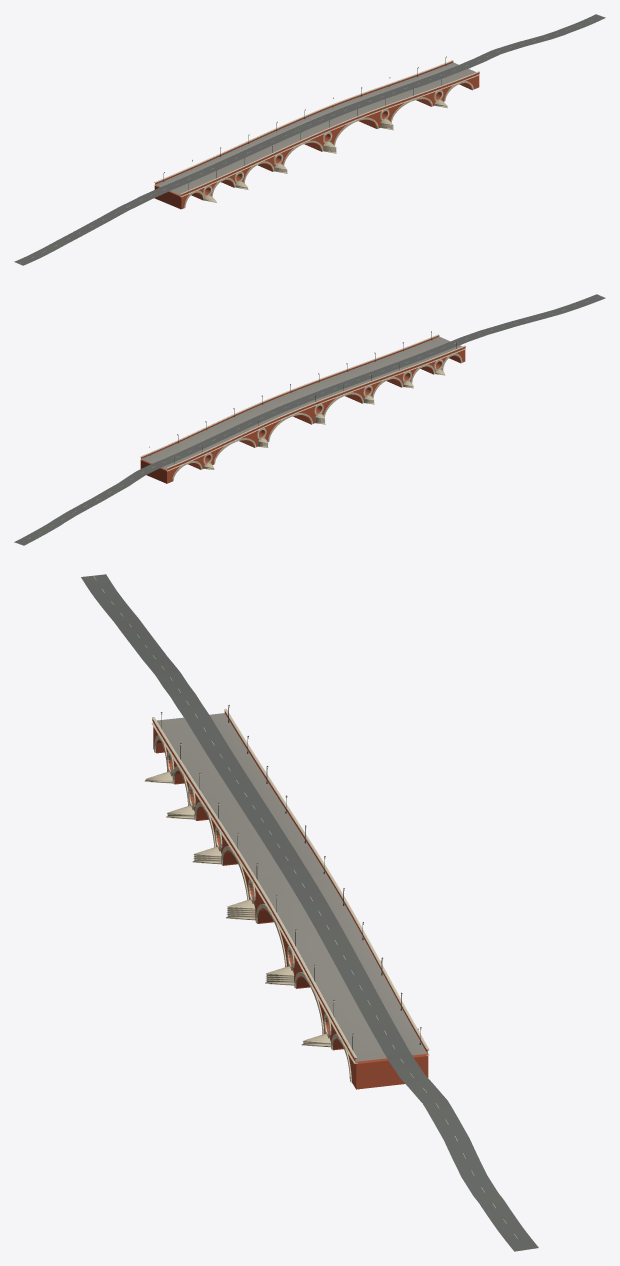
File: pont-neuf-toulouse-far.glb
The picture shows the model from 3 angles, top to bottom: view 1: azimuth 30°, elevation 25°; view 2: azimuth 210°, elevation 25°; view 3: azimuth 270°, elevation 25°; orthographic projection. The views are drawn at different scales.
Parts seen in each view (by area): view 1: pont-neuf-toulouse-0-asphalt, pont-neuf-toulouse-0-walk, pont-neuf-toulouse-0-brick, pont-neuf-toulouse-0-trim, pont-neuf-toulouse-0-stone; view 2: pont-neuf-toulouse-0-asphalt, pont-neuf-toulouse-0-walk, pont-neuf-toulouse-0-brick, pont-neuf-toulouse-0-trim, pont-neuf-toulouse-0-stone; view 3: pont-neuf-toulouse-0-asphalt, pont-neuf-toulouse-0-walk, pont-neuf-toulouse-0-brick, pont-neuf-toulouse-0-trim, pont-neuf-toulouse-0-stone.
Part boxes in pixels (x1,y1,x2,y2): pont-neuf-toulouse-0-asphalt: (14, 14, 605, 265); pont-neuf-toulouse-0-walk: (155, 62, 478, 195); pont-neuf-toulouse-0-brick: (154, 61, 479, 209); pont-neuf-toulouse-0-trim: (154, 60, 479, 207); pont-neuf-toulouse-0-stone: (184, 81, 473, 205); pont-neuf-toulouse-0-asphalt: (14, 294, 605, 545); pont-neuf-toulouse-0-walk: (141, 336, 464, 470); pont-neuf-toulouse-0-brick: (140, 335, 465, 483); pont-neuf-toulouse-0-trim: (140, 334, 465, 478); pont-neuf-toulouse-0-stone: (172, 353, 461, 481); pont-neuf-toulouse-0-asphalt: (81, 574, 538, 1251); pont-neuf-toulouse-0-walk: (157, 713, 427, 1062); pont-neuf-toulouse-0-brick: (152, 711, 428, 1089); pont-neuf-toulouse-0-trim: (151, 709, 429, 1076); pont-neuf-toulouse-0-stone: (144, 735, 418, 1082).
Size of the model in its own units: 428 by 16.62 by 123.
